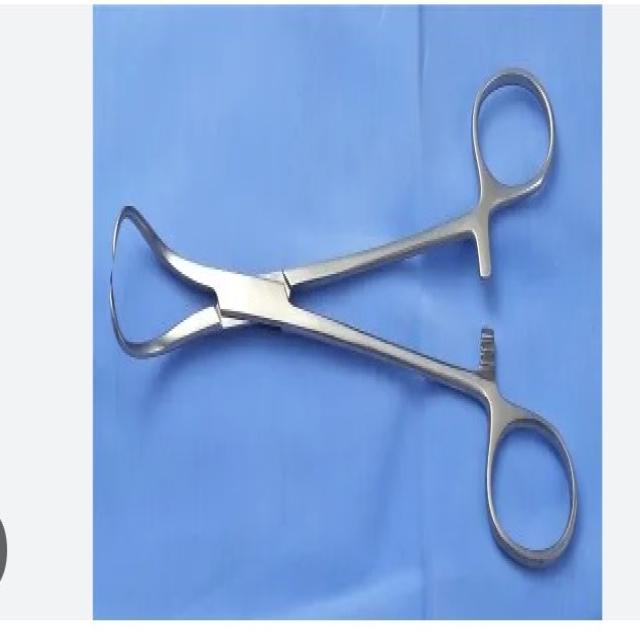Backhaus Towel Clamp: (110, 60, 581, 578)
